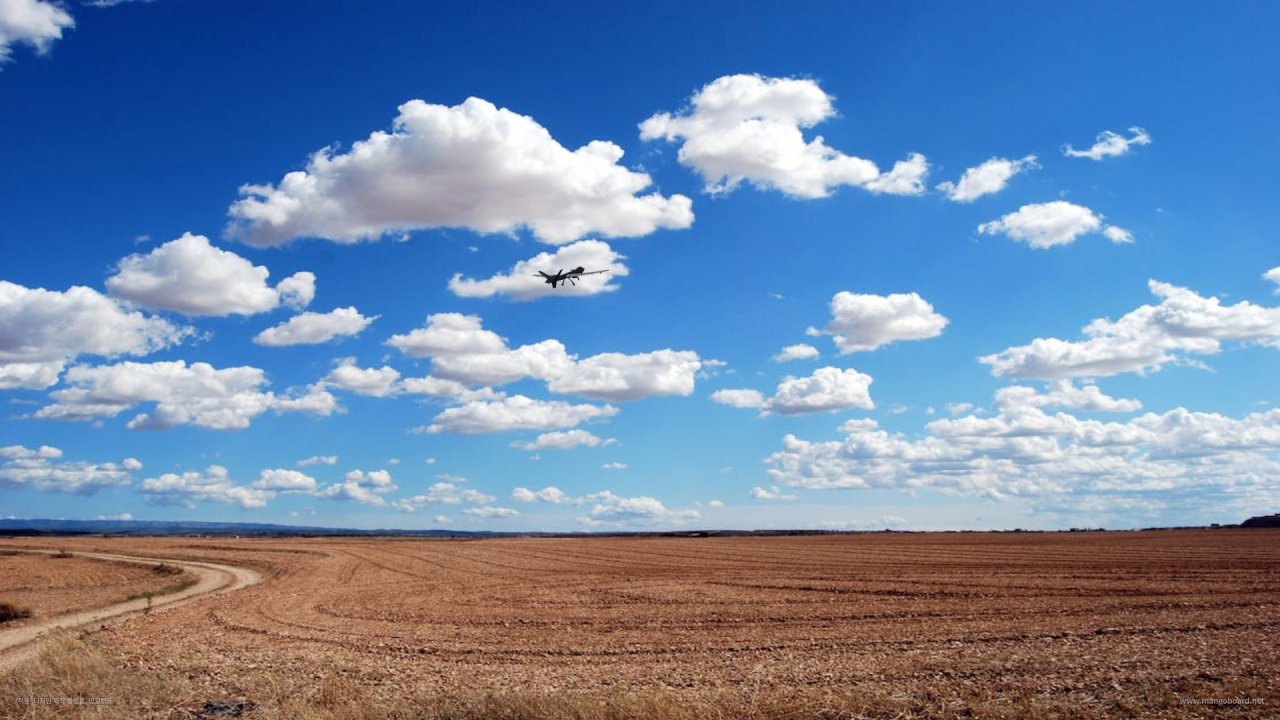military drone: (530, 266, 610, 287)
